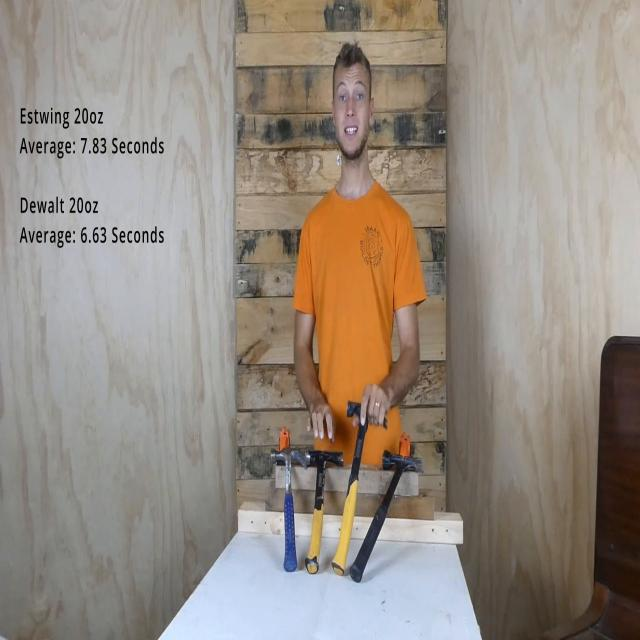hammer: (329, 398, 391, 578), (346, 451, 424, 584), (300, 442, 348, 580), (271, 441, 308, 581)
